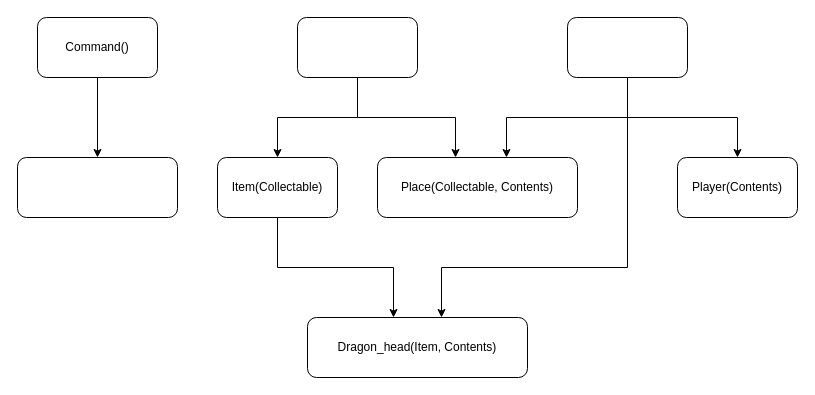
The diagram is 815 pixels wide and 395 high, and some of its shapes have lost their labels. The box of each missing label's shape, as (x1, y1, x2, y2) in pixels:
All_commands(Command): (16, 156, 178, 218)
Collectable(): (296, 16, 418, 78)
Contents(): (566, 16, 688, 78)
